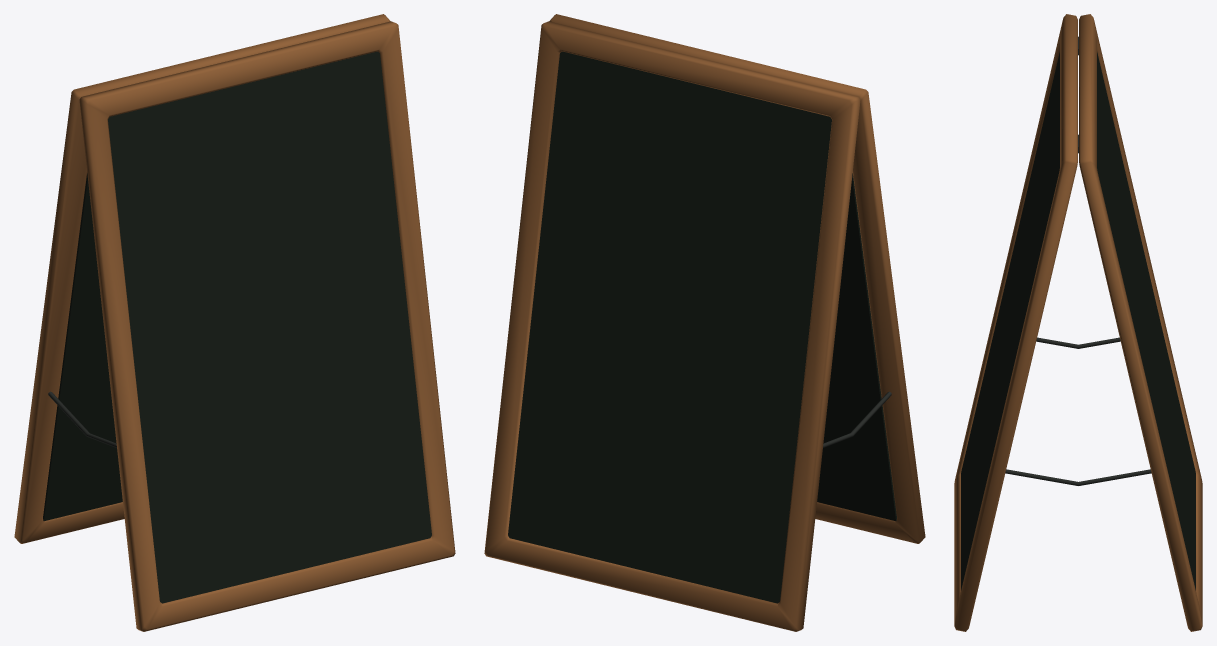
The model's file is pizarra_grande.glb.
3 views of the same model, side by side, from view 1: azimuth 30°, elevation 25°; view 2: azimuth 150°, elevation 25°; view 3: azimuth 270°, elevation 25° (orthographic). The views are drawn at different scales.
Visible parts, largest first — view 1: pieza_pizarra, pizarra_grande_cuerpo, pieza_pizarra_2; view 2: pieza_pizarra_2, pizarra_grande_cuerpo, pieza_pizarra; view 3: pizarra_grande_cuerpo, pieza_pizarra, pieza_pizarra_2.
Boxes of the visible parts, x1=… form: pieza_pizarra: x1=108, y1=51, x2=431, y2=603; pizarra_grande_cuerpo: x1=14, y1=14, x2=455, y2=631; pieza_pizarra_2: x1=43, y1=173, x2=122, y2=521; pieza_pizarra_2: x1=508, y1=51, x2=831, y2=603; pizarra_grande_cuerpo: x1=484, y1=14, x2=925, y2=631; pieza_pizarra: x1=817, y1=173, x2=896, y2=521; pizarra_grande_cuerpo: x1=954, y1=14, x2=1202, y2=631; pieza_pizarra: x1=961, y1=52, x2=1059, y2=590; pieza_pizarra_2: x1=1097, y1=52, x2=1195, y2=590.
Size of what is drawn, in the model's own units: 0.6 by 0.9003 by 0.4285.
